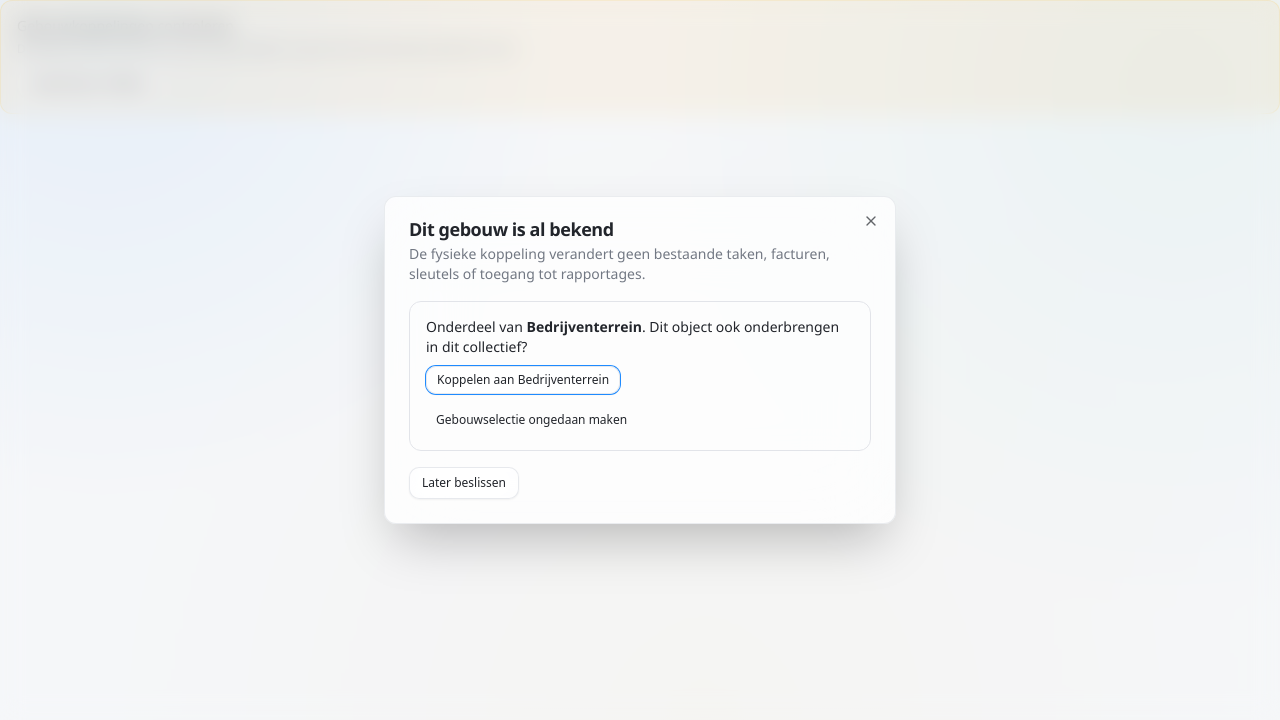
bevestiging bij bekend kaartgebouw › vraagt na een nieuwe gebouwselectie een bevestiging en schrijft niet bij later beslissen
Expected: the dialog is shown, left=384, top=196, right=896, bottom=524
Click the button "Later beslissen": x=464, y=483 left=409, top=467, right=519, bottom=499
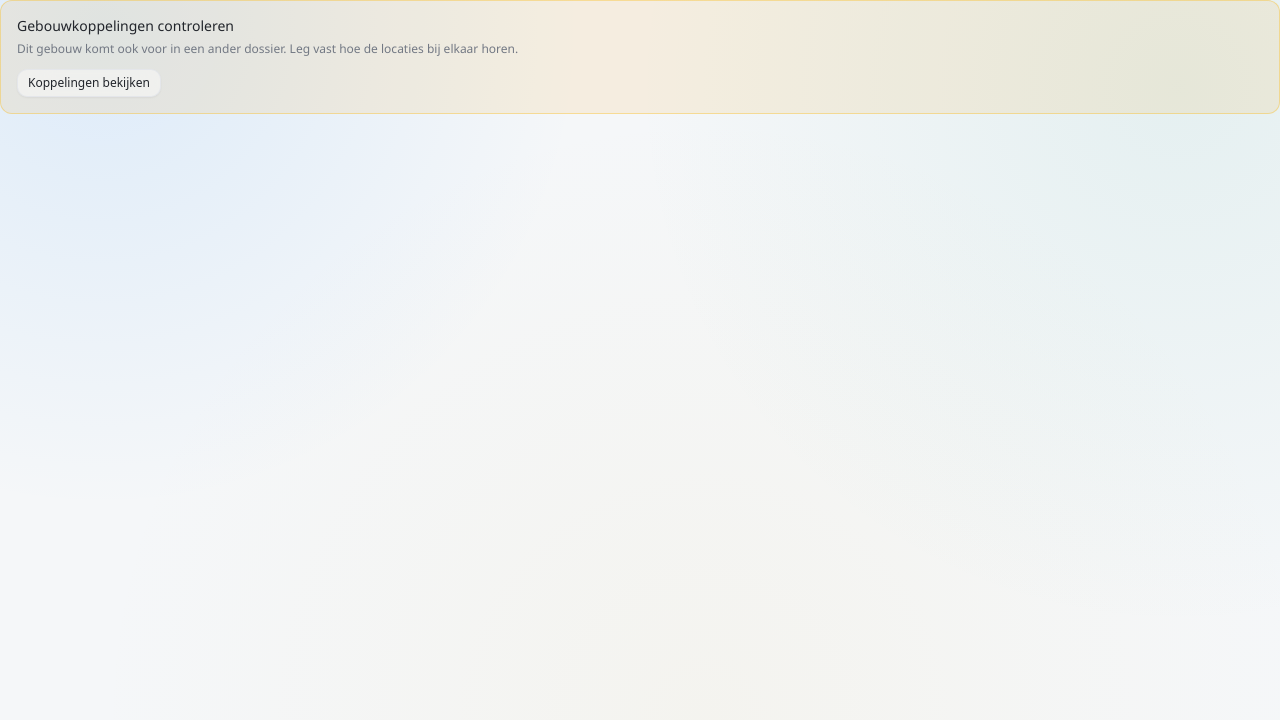
Now the dialog is gone
